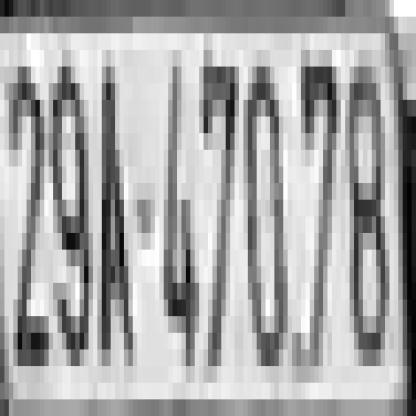0: (244, 84, 284, 350)
2: (9, 66, 44, 350)
4: (164, 66, 199, 350)
7: (301, 67, 336, 332), (208, 83, 235, 333)
8: (345, 84, 385, 350)
9: (48, 67, 88, 332)
A: (102, 66, 133, 350)
